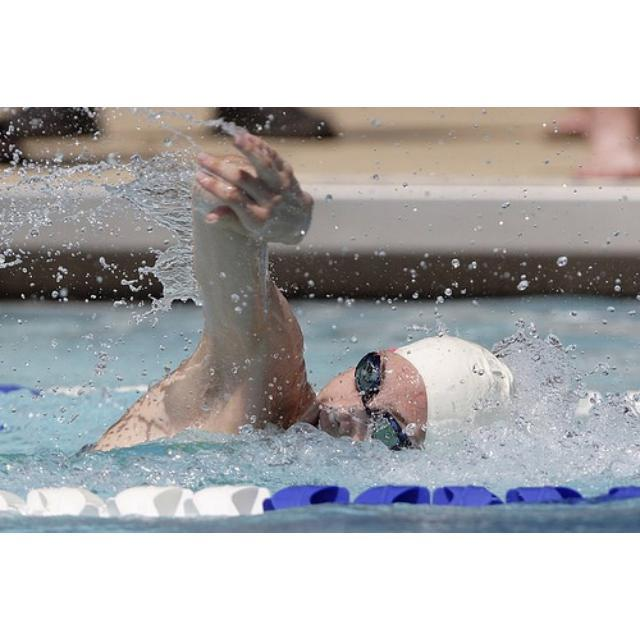human: (93, 131, 528, 461)
